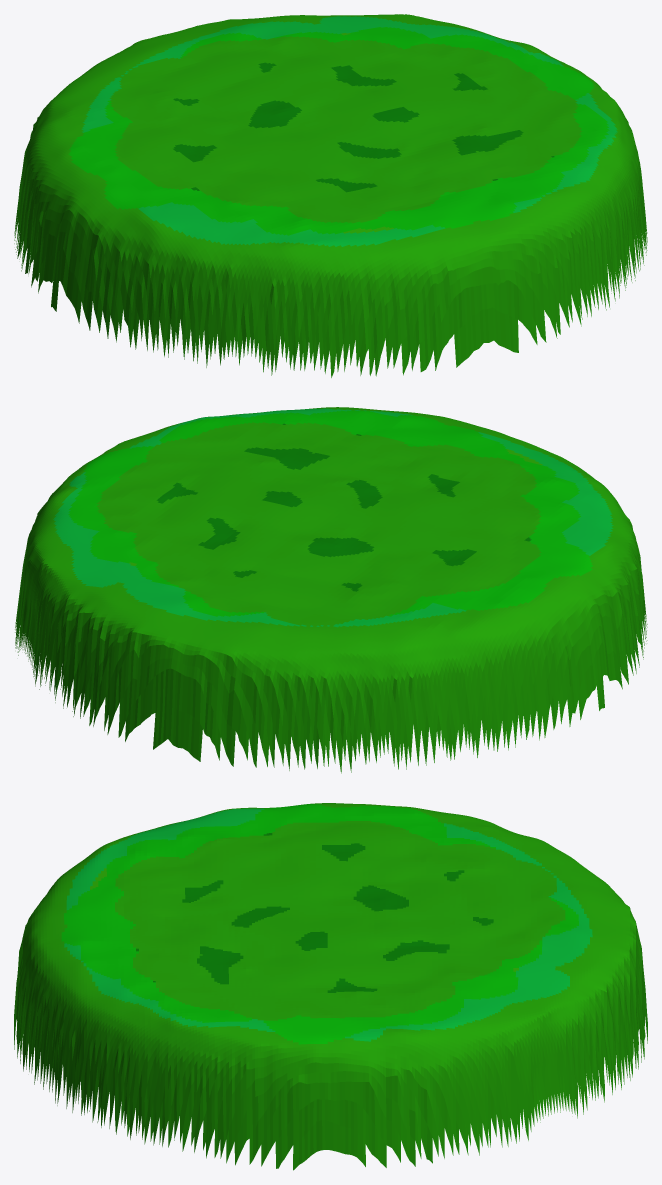
Rendered from zoneVillage.fbx.
3 renders of one model, top to bottom at view 1: azimuth 30°, elevation 25°; view 2: azimuth 150°, elevation 25°; view 3: azimuth 270°, elevation 25°, orthographic.
Visible parts, largest first — view 1: Plane; view 2: Plane; view 3: Plane.
Boxes of the visible parts, x1=… form: Plane: x1=14, y1=14, x2=647, y2=377; Plane: x1=15, y1=407, x2=647, y2=773; Plane: x1=14, y1=803, x2=647, y2=1170.
Bounding box in the file's own units: 30326 × 6520 × 30175.
